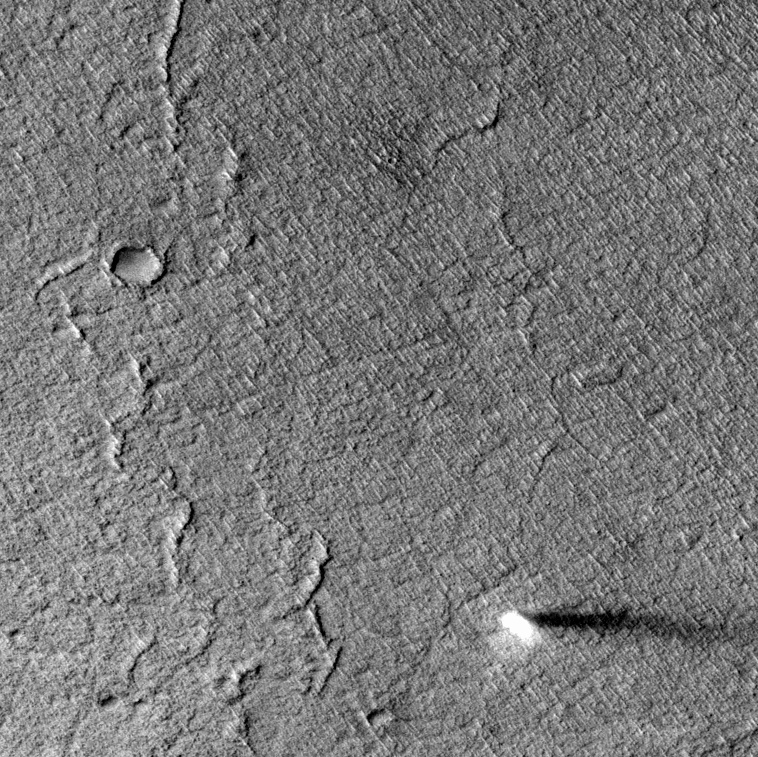dust_devil: (495, 599, 727, 652)
